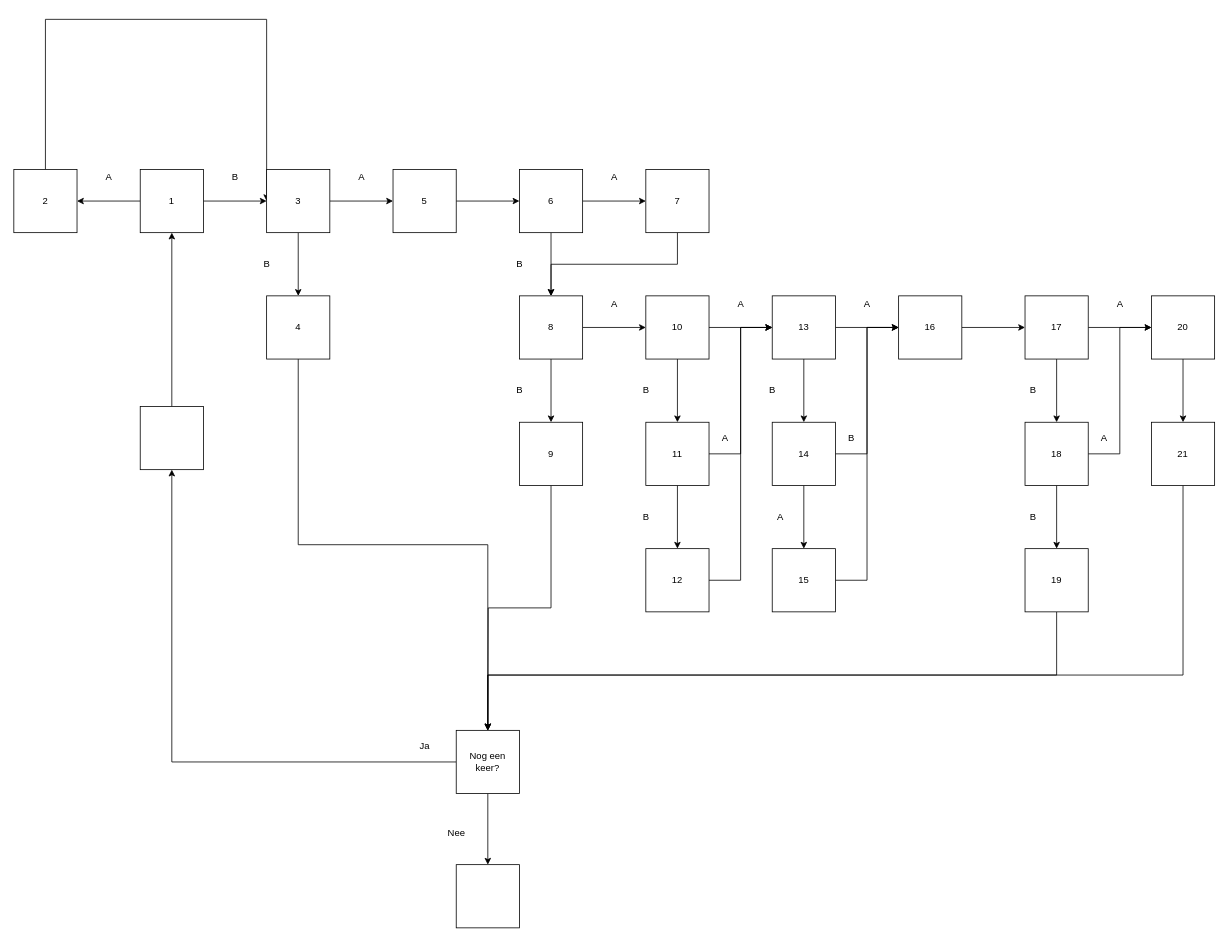
Some shapes in this 1228 by 942 pixel diagram are drawn without their labels. Here are the shapes that lost their labels. From the top down, the centre of each, then its label:
At point (171, 438): "START".
At point (487, 896): "Einde programma".
